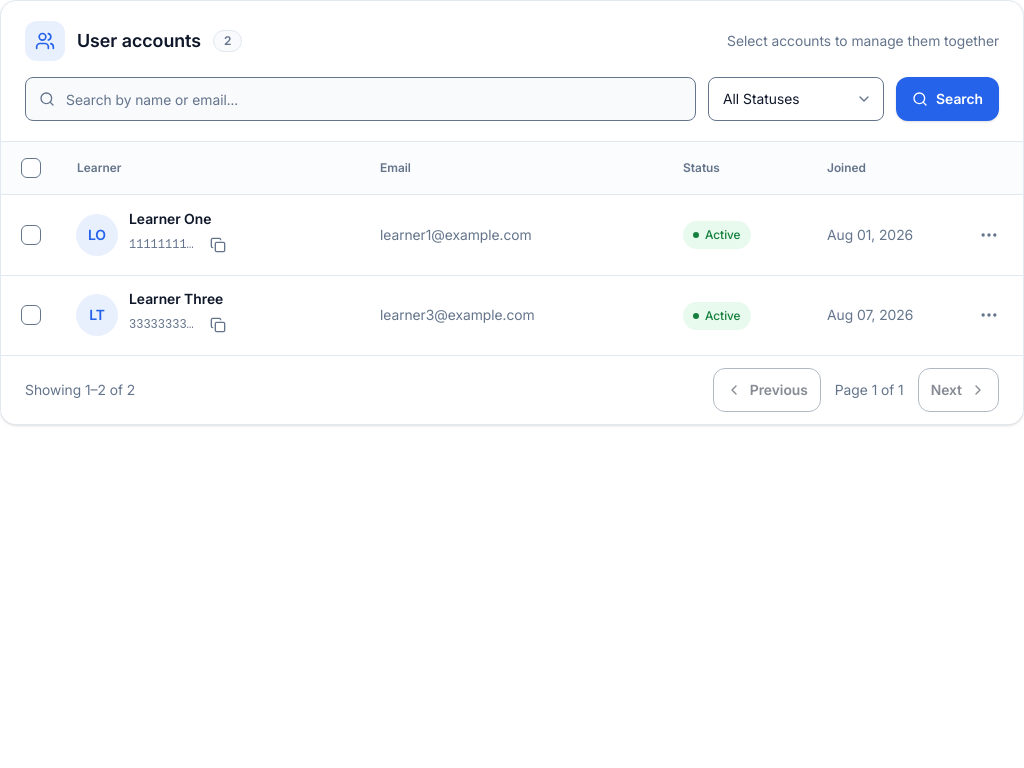
Admin Shell & Operations › names the accounts a batch could not change rather than counting them
Click the checkbox named "Select this account". click: (31,235)
box: [21,225,41,245]
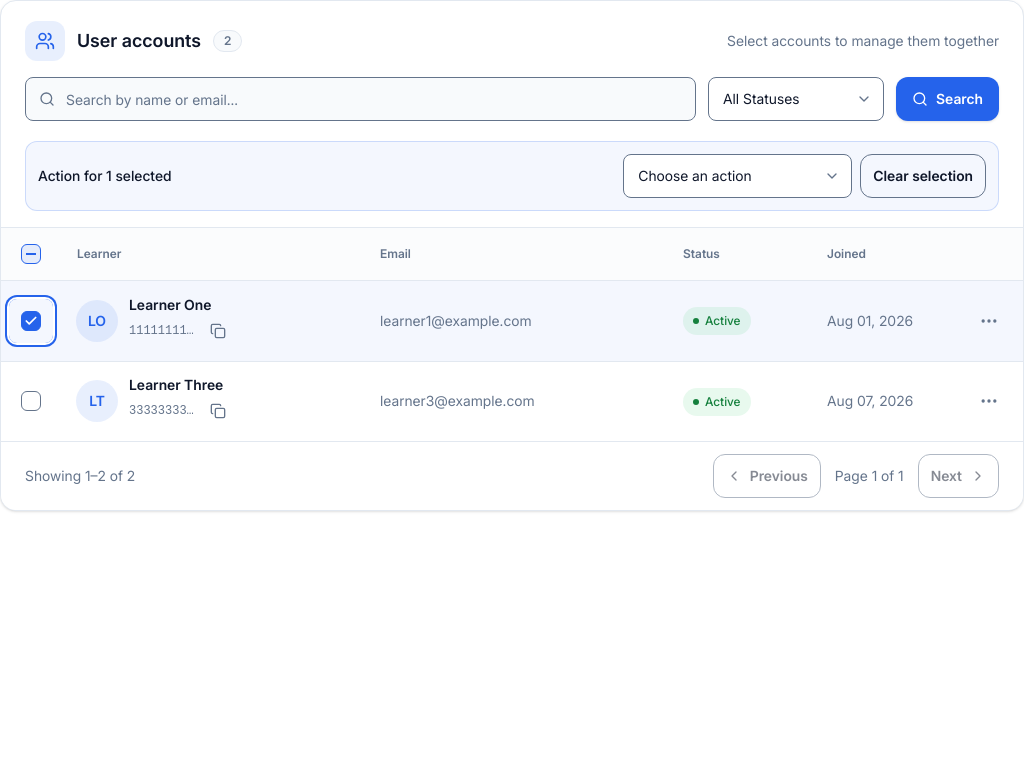
Click the checkbox named "Select this account". click: (31,401)
box: [21,391,41,411]
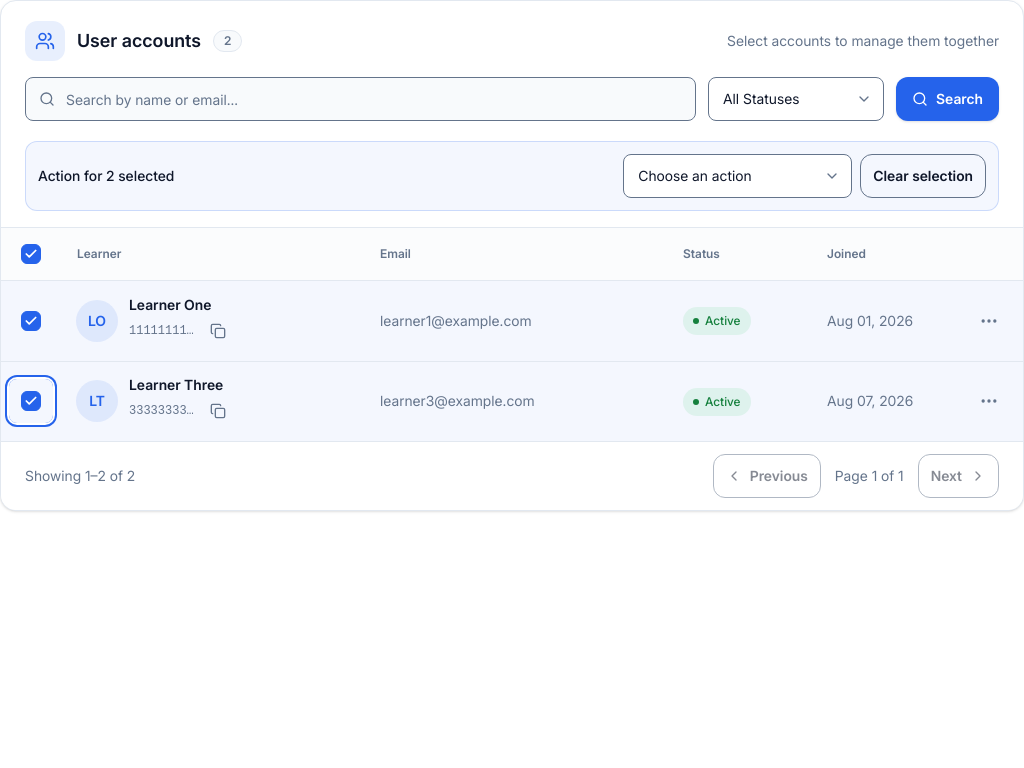
Select "Lock login for the selected" in the dropdown named "Action for 2 selected". click: (738,176)
box: [623,154,852,198]
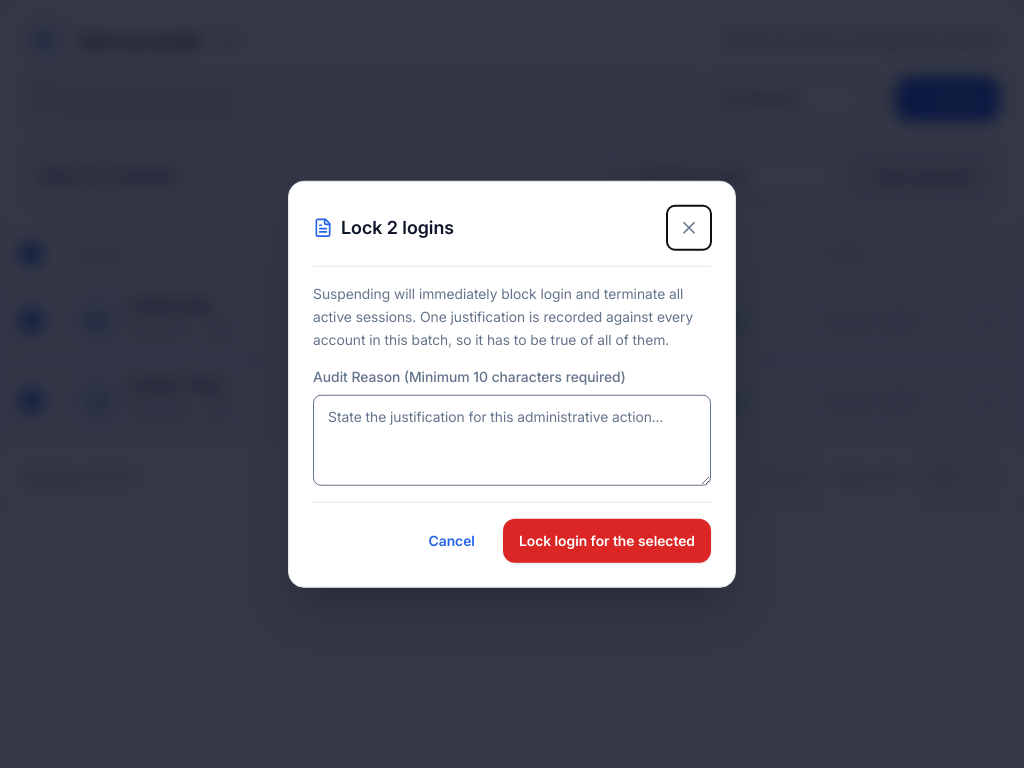
Type "Coordinated spam campaign from one address book" into the text box with placeholder "State the justification for this administrative action...". click: (512,440)
box: [313,395,711,485]
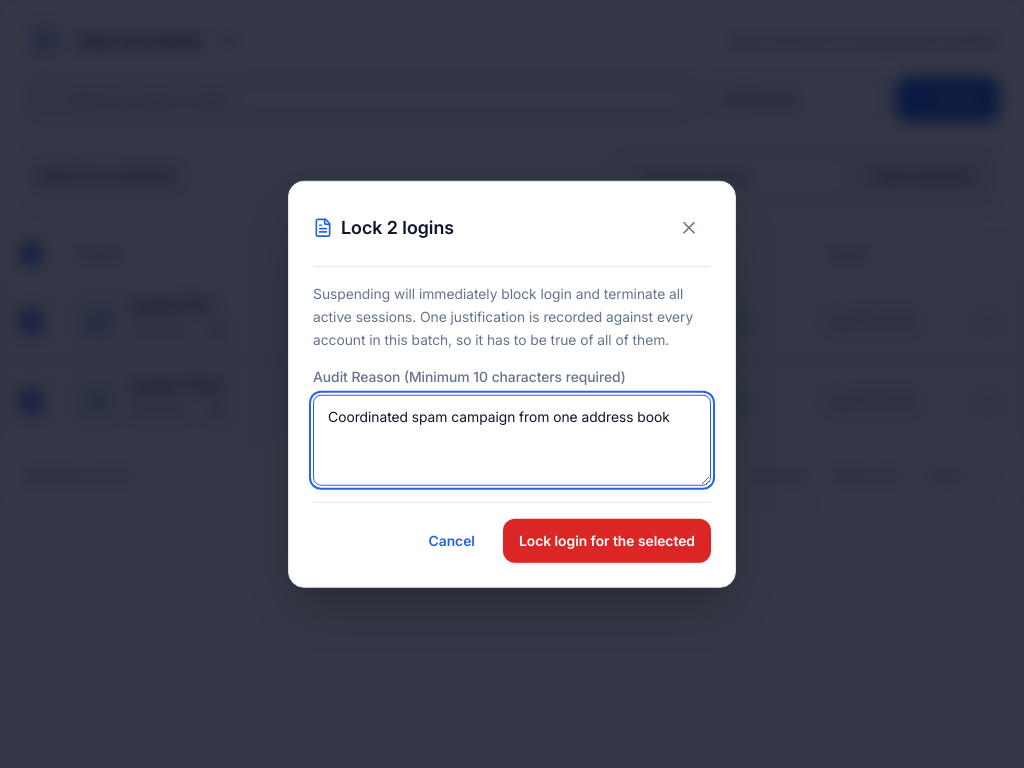
Click the button "Lock login for the selected". click: (607,540)
box: [503,518,711,562]
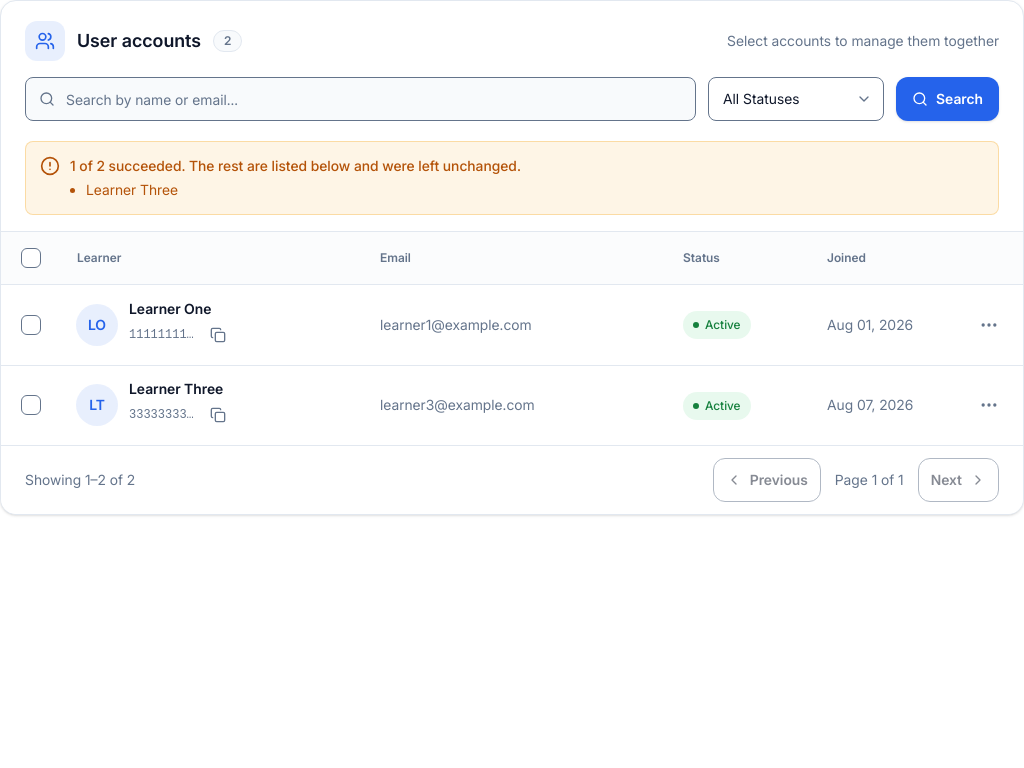
Expected: the list item reads "Learner Three", [86,181,178,198]
Expected: the text "1 of 2 succeeded" is shown, [70,157,521,174]
